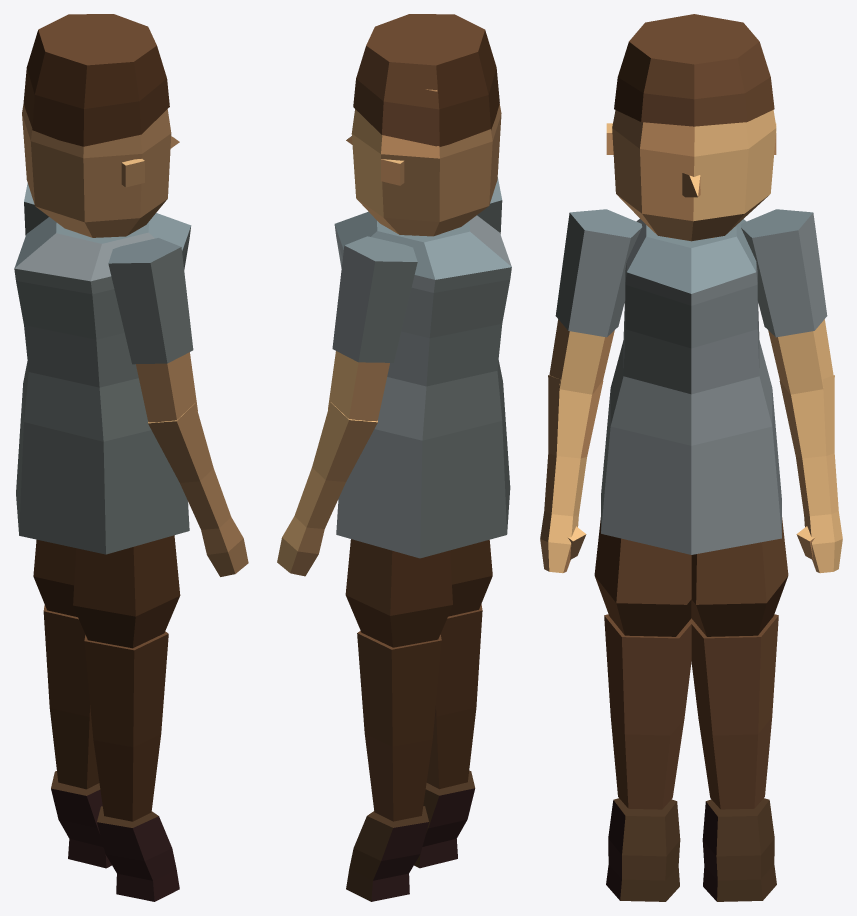
Rendered from villager.glb.
3 views of the same model, side by side, from view 1: azimuth 30°, elevation 25°; view 2: azimuth 150°, elevation 25°; view 3: azimuth 270°, elevation 25° (orthographic).
Visible parts, largest first — view 1: vg_villager; view 2: vg_villager; view 3: vg_villager.
Part boxes in pixels (left/top/right/bottom): vg_villager: left=14, top=14, right=248, bottom=901; vg_villager: left=277, top=14, right=511, bottom=901; vg_villager: left=540, top=14, right=842, bottom=901.
Bounding box in the file's own units: 0.22 × 0.9929 × 0.3242.
